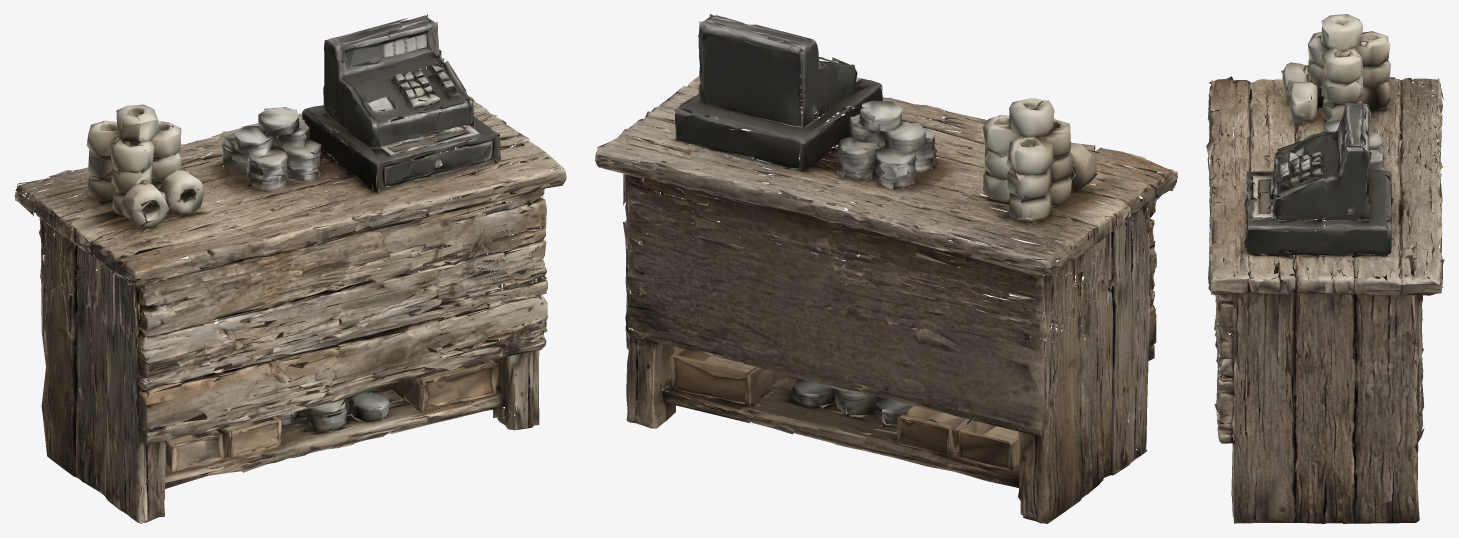
Rendered from CCG_ShopCounter.fbx.
The picture shows the model from 3 angles, left to right: view 1: azimuth 30°, elevation 25°; view 2: azimuth 150°, elevation 25°; view 3: azimuth 270°, elevation 25°; orthographic projection. The views are drawn at different scales.
Parts seen in each view (by area): view 1: tripo_node_795b952e-9b0a-4fb7-83ab-2292a4d76276; view 2: tripo_node_795b952e-9b0a-4fb7-83ab-2292a4d76276; view 3: tripo_node_795b952e-9b0a-4fb7-83ab-2292a4d76276.
Part boxes in pixels (<box>): tripo_node_795b952e-9b0a-4fb7-83ab-2292a4d76276: <box>14,14,566,523</box>; tripo_node_795b952e-9b0a-4fb7-83ab-2292a4d76276: <box>595,14,1177,523</box>; tripo_node_795b952e-9b0a-4fb7-83ab-2292a4d76276: <box>1206,14,1444,523</box>.
Size of the model in its own units: 0.9866 by 0.8078 by 0.4857.
Materials: 1 (1 with a texture image).
